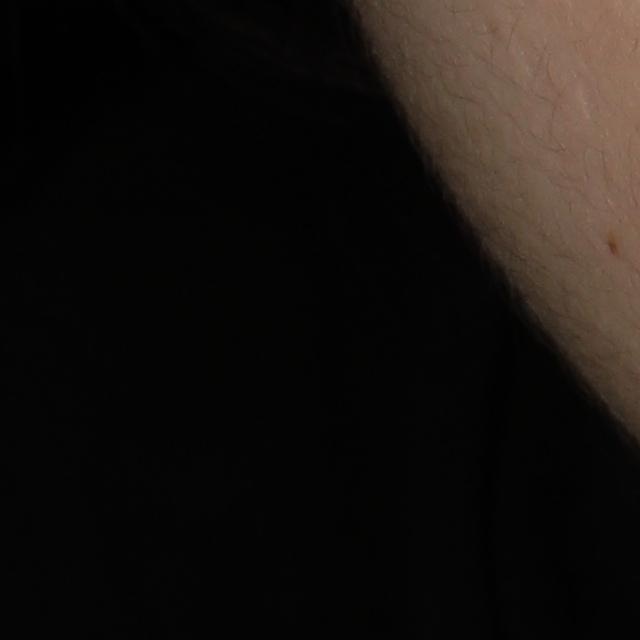nevus: (607, 234, 620, 259)
